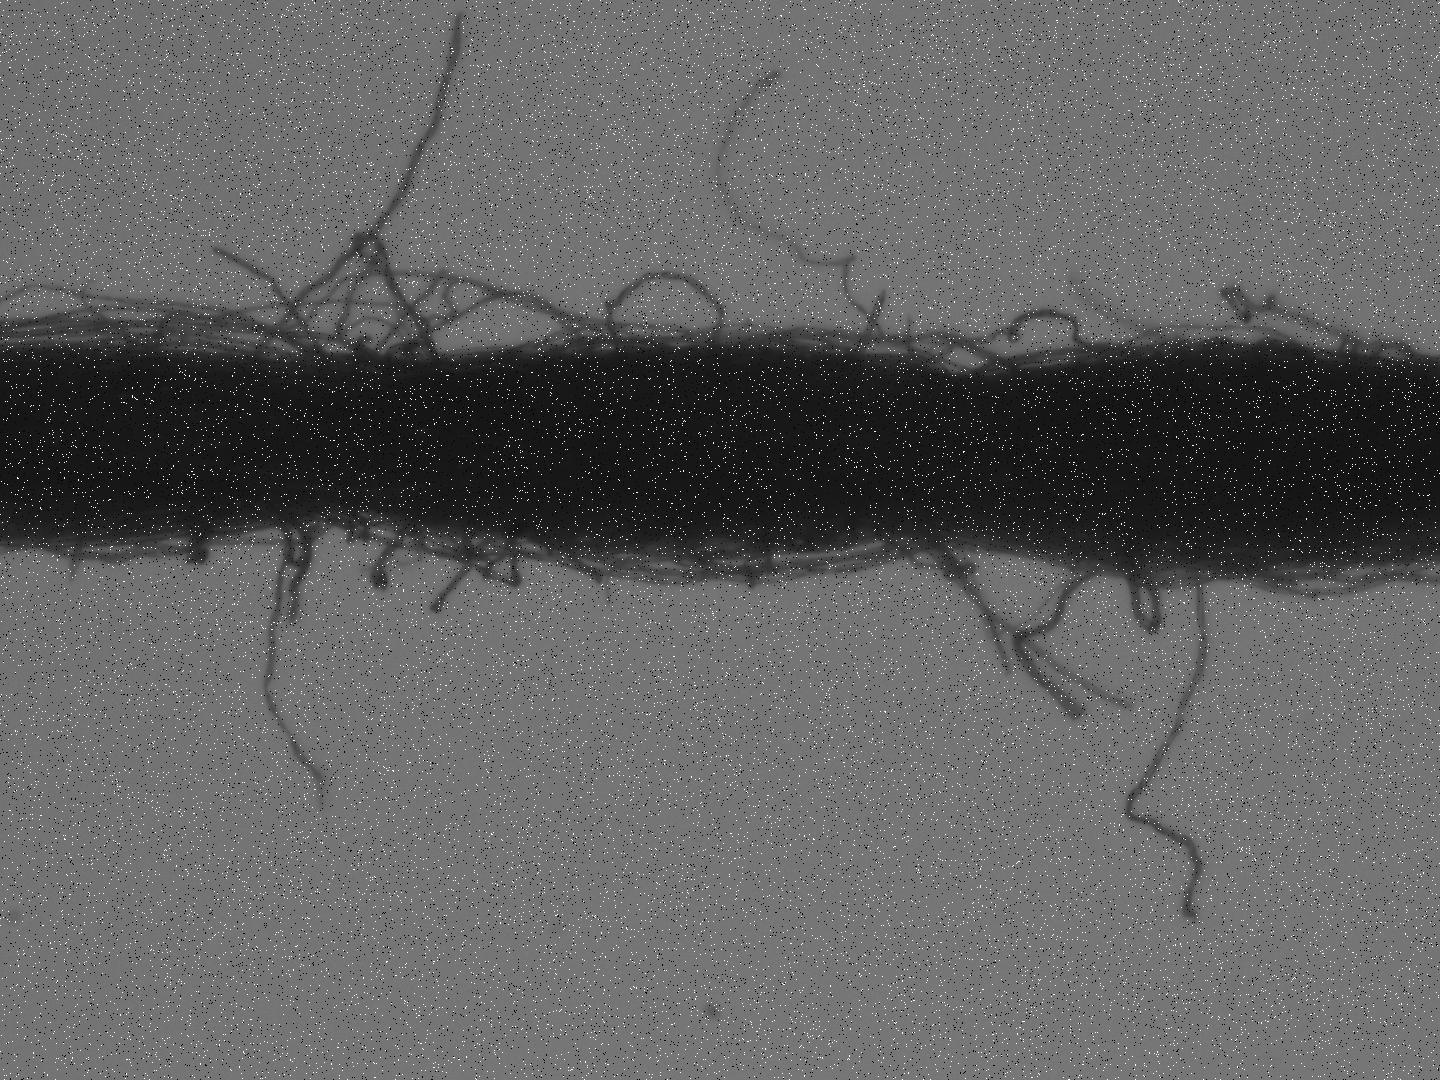loop_fiber: (738, 321, 1019, 376), (393, 287, 592, 358), (154, 307, 379, 357), (605, 268, 722, 355), (410, 516, 524, 588), (40, 526, 221, 565), (312, 511, 421, 555), (1126, 559, 1163, 633), (1378, 345, 1412, 358)
protruding_fiber: (262, 7, 465, 349), (1125, 575, 1211, 927), (262, 512, 331, 809), (209, 241, 330, 357), (1019, 564, 1104, 723), (281, 507, 312, 619)
